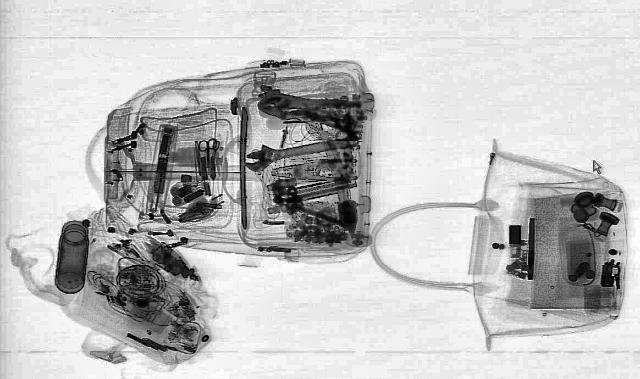Pliers: (252, 89, 364, 125), (268, 160, 358, 182)
Wrench: (233, 128, 363, 172)
